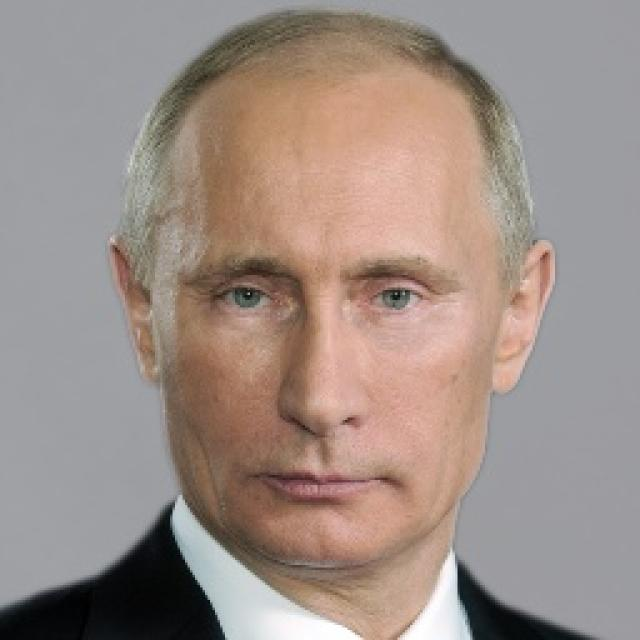no-glasses: (186, 256, 470, 348)
